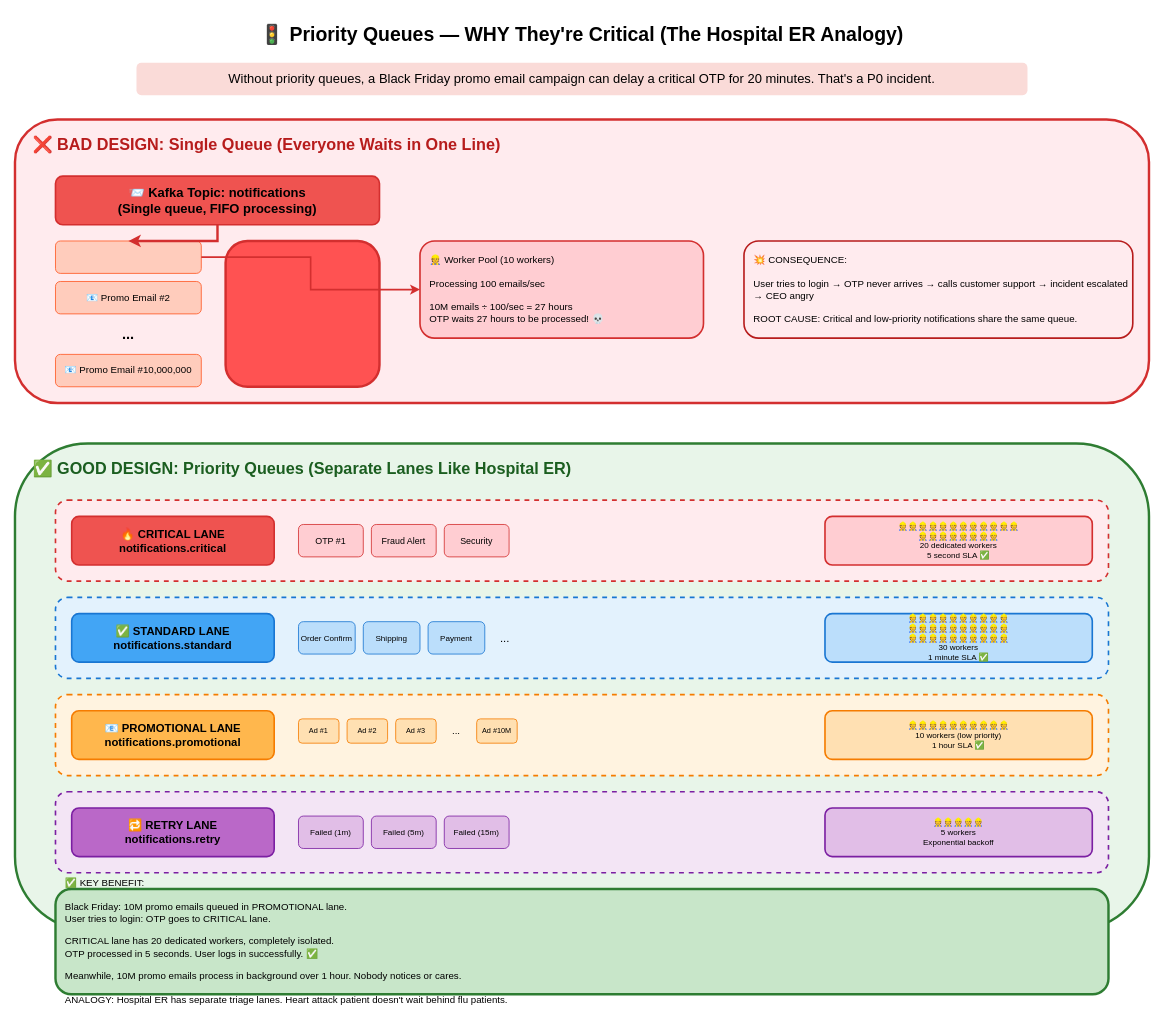
Image size: 1164x1019. Some labels were removed from this diagram. Here are the shapes that lost their labels. From the top down, the box of each, then its label:
(55, 240, 201, 273): 📧 Promo Email #1
(224, 239, 380, 388): 🔥 CRITICAL OTP (Stuck behind 10M emails!)
